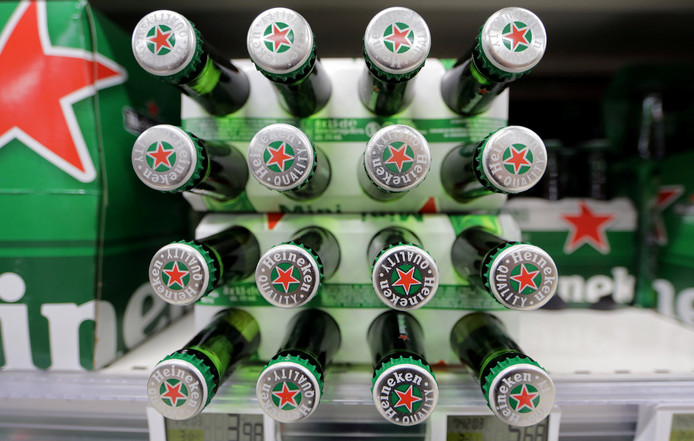heineken: (487, 241, 559, 312), (476, 126, 550, 195), (245, 6, 315, 78), (244, 122, 315, 192), (363, 124, 433, 194), (129, 123, 198, 194), (362, 5, 431, 76), (480, 5, 549, 75), (130, 8, 197, 78), (253, 244, 323, 310), (371, 246, 439, 312), (373, 363, 440, 429), (489, 365, 557, 428), (148, 241, 210, 308), (254, 362, 318, 425), (145, 360, 206, 422)
